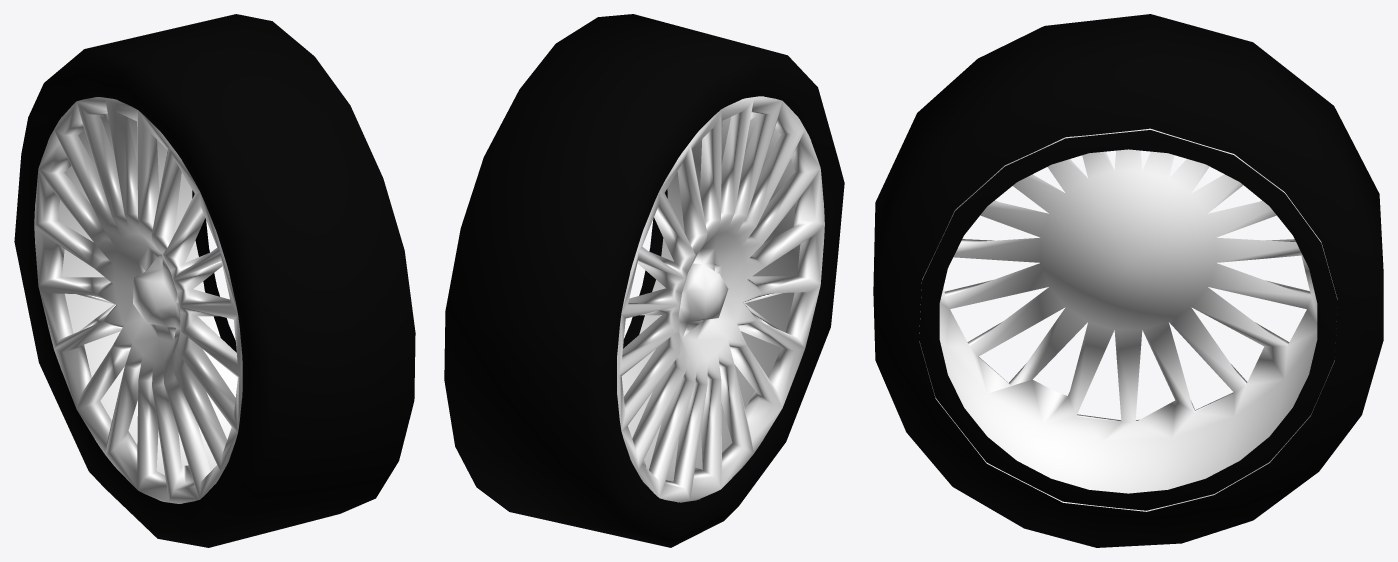
File: mazdarx8wheel.obj
The picture shows the model from 3 angles, left to right: view 1: azimuth 30°, elevation 25°; view 2: azimuth 150°, elevation 25°; view 3: azimuth 270°, elevation 25°; orthographic projection.
Visible parts, largest first — view 1: mazdarx8wheel_Wheel.001; view 2: mazdarx8wheel_Wheel.001; view 3: mazdarx8wheel_Wheel.001.
Boxes of the visible parts, x1=… form: mazdarx8wheel_Wheel.001: x1=14, y1=14, x2=415, y2=547; mazdarx8wheel_Wheel.001: x1=444, y1=14, x2=844, y2=547; mazdarx8wheel_Wheel.001: x1=873, y1=14, x2=1383, y2=547.
Size of the model in its own units: 0.2738 by 0.7405 by 0.7355.
